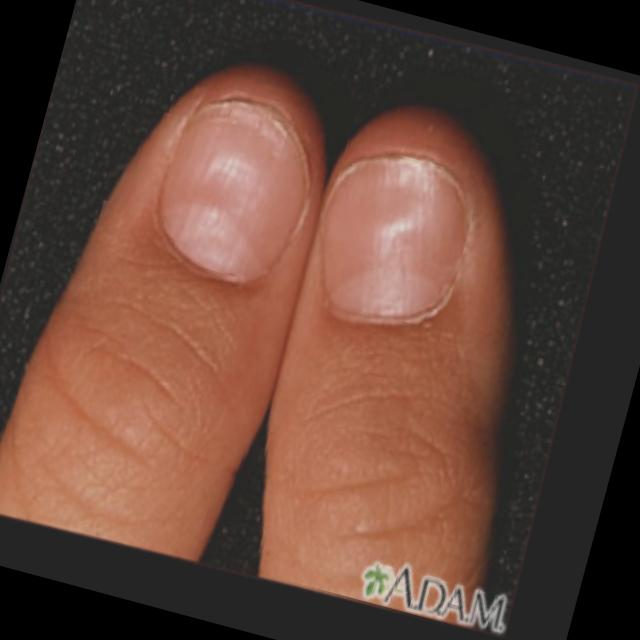Nail: (159, 98, 309, 282), (323, 155, 463, 318)
